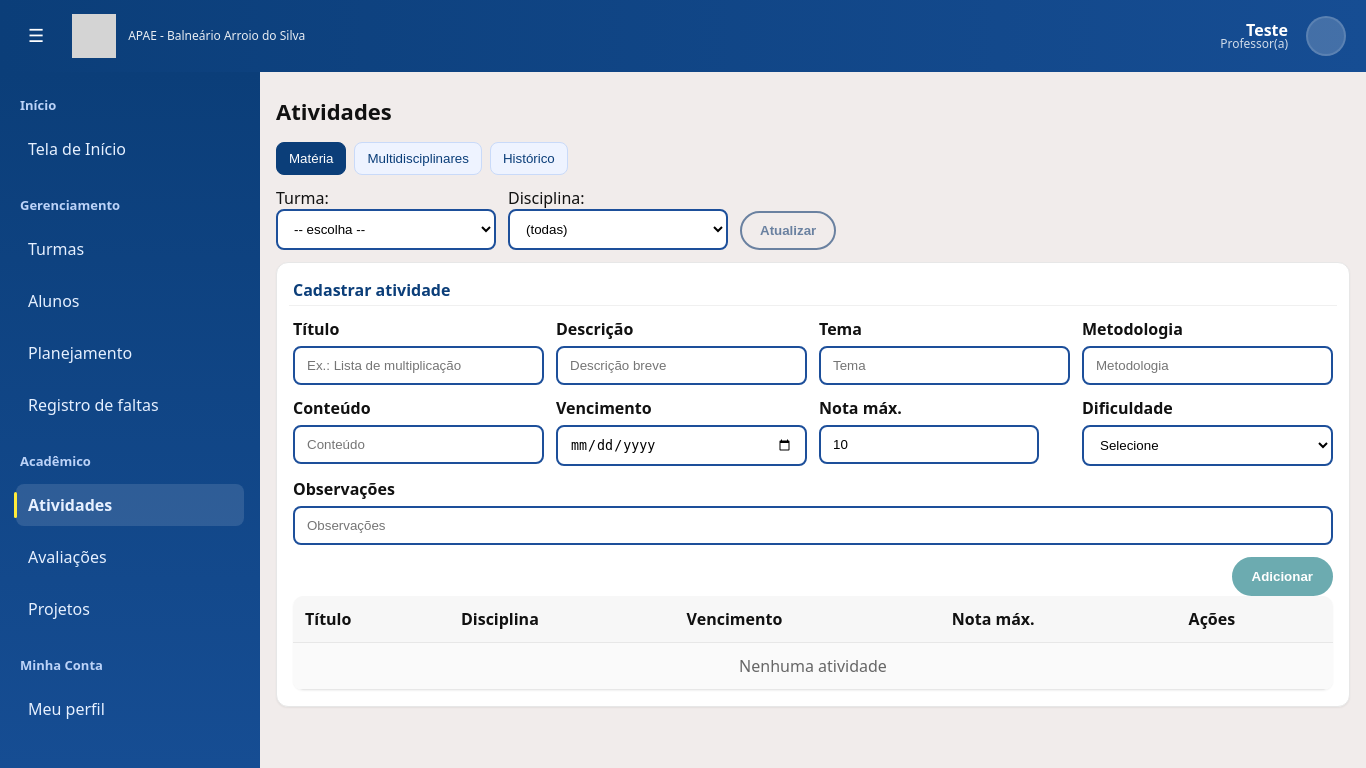
Test: Histórico Acadêmico › filtra por período
Click the button "Histórico" at x=529, y=159, box [490, 142, 568, 175]
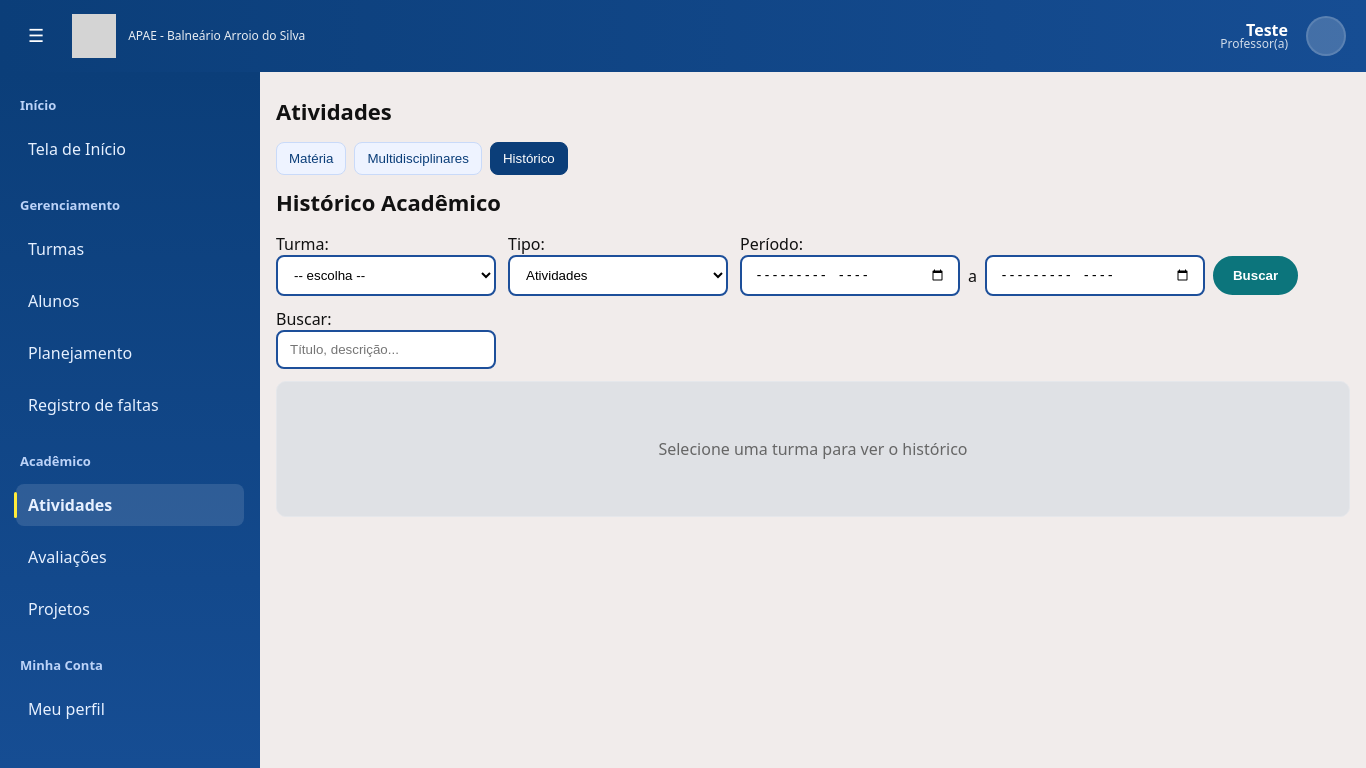
Select "Turma 1" in the dropdown below "Turma:" at x=386, y=276, box [276, 255, 496, 296]
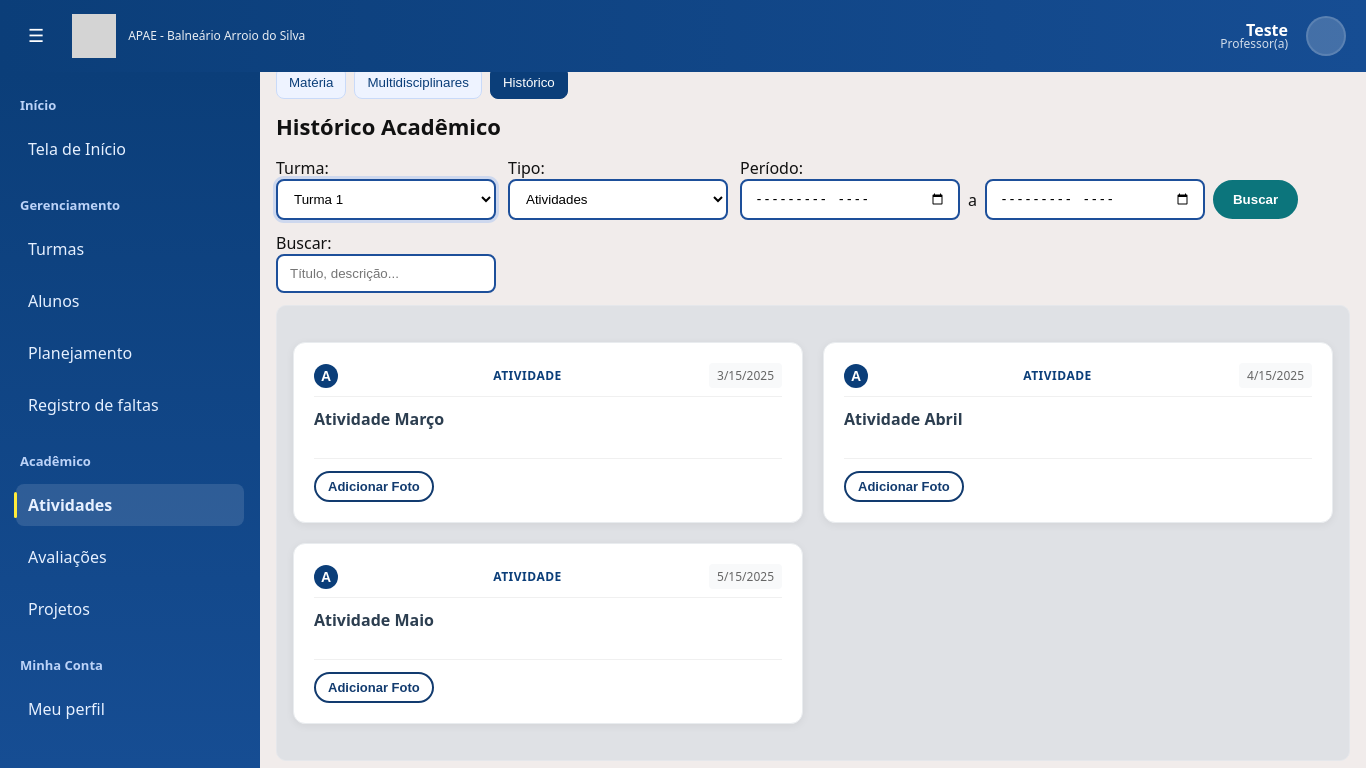
Result: the heading "Atividade Março" is shown at [314, 408, 444, 430]
Result: the heading "Atividade Abril" is shown at [844, 408, 963, 430]
Result: the heading "Atividade Maio" is shown at [314, 609, 434, 631]
Type "2025-04" into the 1st field at x=850, y=200, box [740, 179, 960, 220]
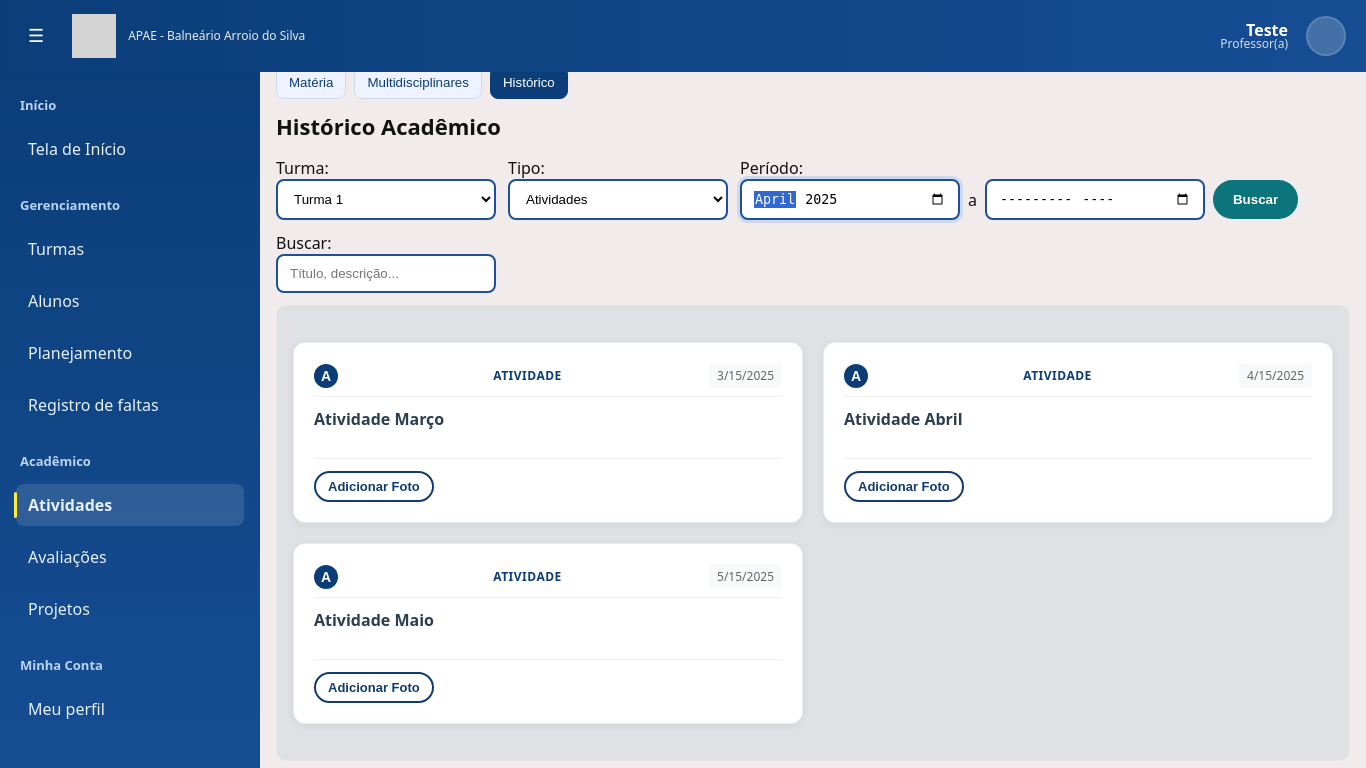
Type "2025-05" into the 2nd field at x=1095, y=200, box [985, 179, 1205, 220]
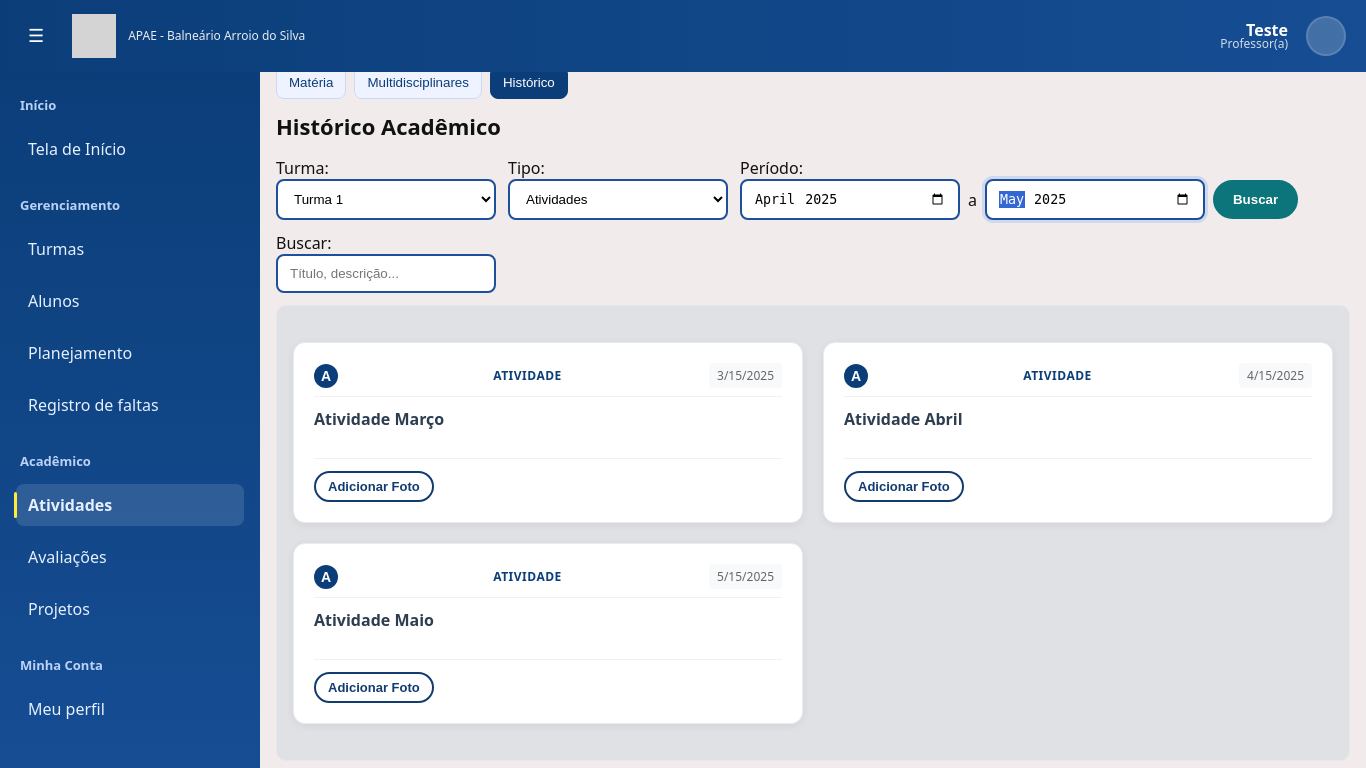
Click the button "Buscar" at x=1256, y=200, box [1213, 180, 1298, 219]
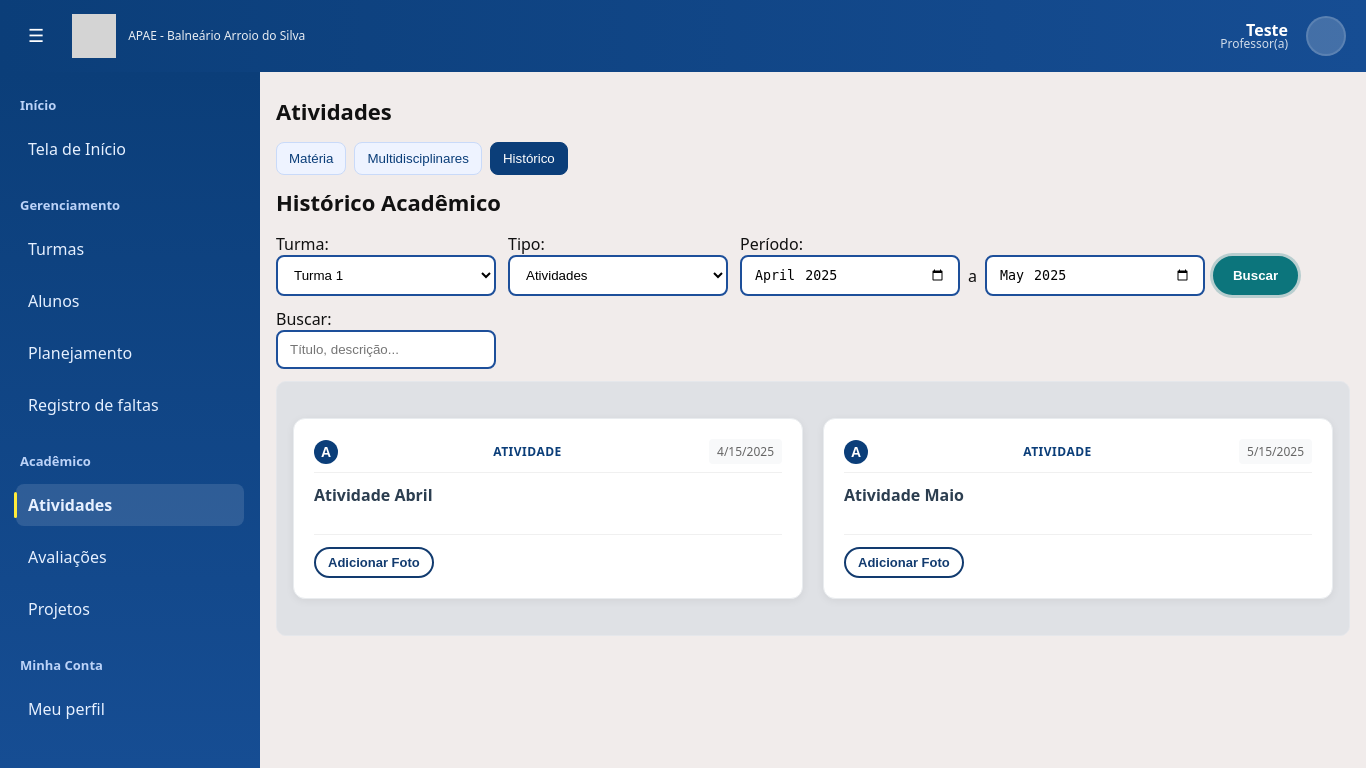
Result: the heading "Atividade Abril" is shown at [314, 484, 433, 506]
Result: the heading "Atividade Maio" is shown at [844, 484, 964, 506]
Result: the heading "Atividade Março" is gone
